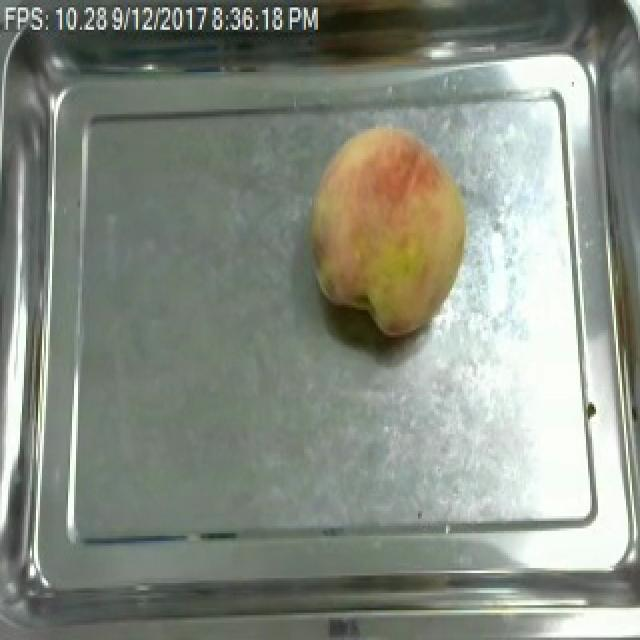Fruit: (298, 114, 480, 345)
